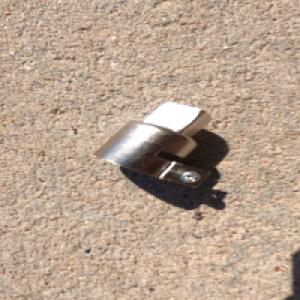MetalPart: (89, 99, 213, 190)
